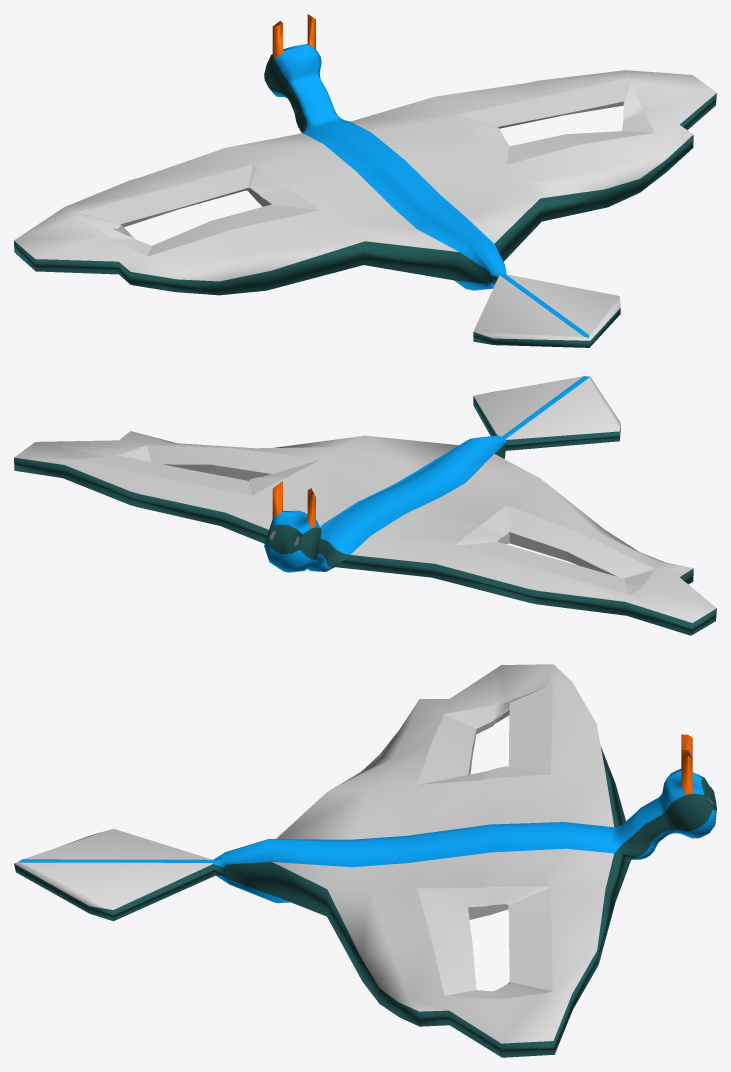
Rendered from ally.obj.
3 views of the same model, one above another, from view 1: azimuth 30°, elevation 25°; view 2: azimuth 150°, elevation 25°; view 3: azimuth 270°, elevation 25° (orthographic). The views are drawn at different scales.
Visible parts, largest first — view 1: pCube1; view 2: pCube1; view 3: pCube1.
Part boxes in pixels (left/top/right/bottom): pCube1: left=14, top=14, right=716, bottom=347; pCube1: left=14, top=376, right=716, bottom=635; pCube1: left=14, top=664, right=716, bottom=1057.
Size of the model in its own units: 4.09 by 0.8102 by 3.21.
